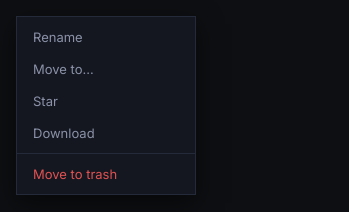
Scenario: ContextMenu › clicking Rename shows the rename input
The width and height of the screenshot is (349, 212).
Click the menu item with test id "ctx-rename". click: (106, 37)
box: [17,21,195,53]
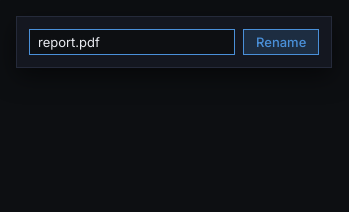
Check: the field named "new name" is shown, box [29,29,235,55]
